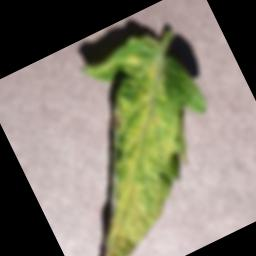Leaf_Mold: (5, 22, 255, 256)
